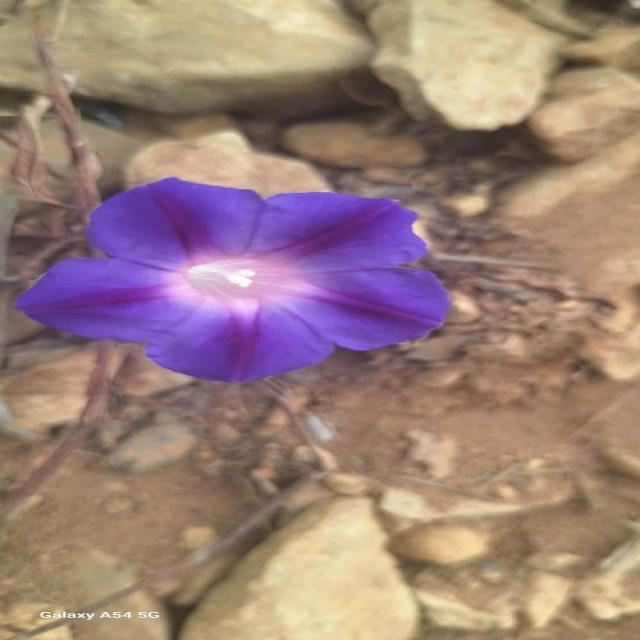ipomoea: (12, 175, 456, 385)
